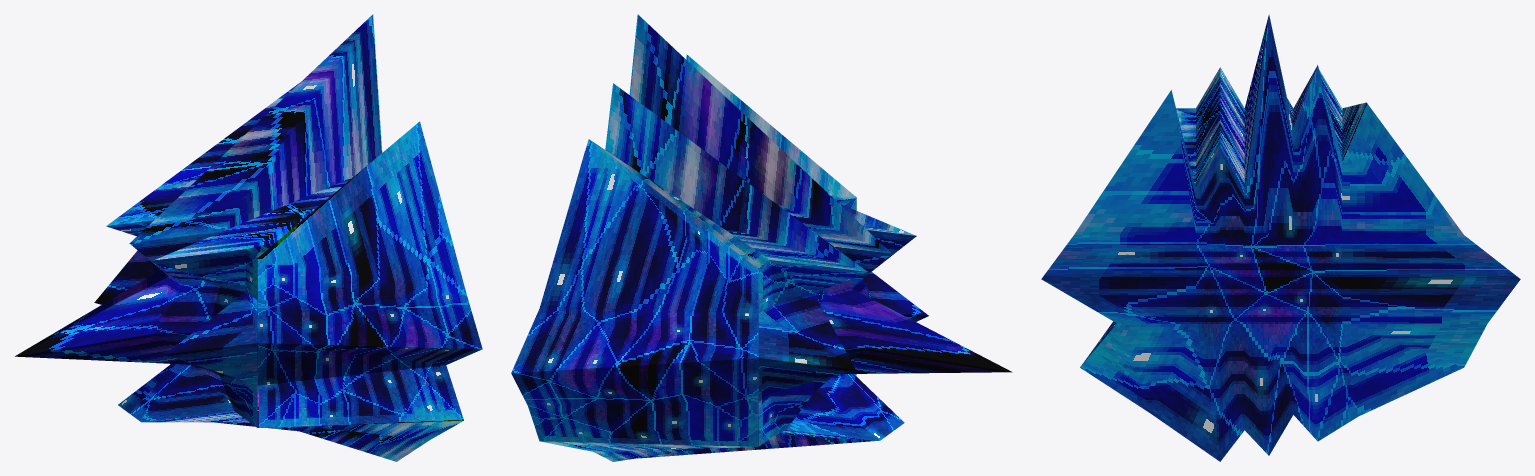
The model's file is EstalactiteGelo.glb.
3 renders of one model, left to right at view 1: azimuth 30°, elevation 25°; view 2: azimuth 150°, elevation 25°; view 3: azimuth 270°, elevation 25°, orthographic. The views are drawn at different scales.
Visible parts, largest first — view 1: BlocoCristal.005; view 2: BlocoCristal.005; view 3: BlocoCristal.005.
Part boxes in pixels (box(x1,y1,x2,y2)): BlocoCristal.005: box(15, 14, 482, 461); BlocoCristal.005: box(511, 14, 1012, 461); BlocoCristal.005: box(1041, 14, 1520, 461).
Bounding box in the file's own units: 4.42 × 5.07 × 4.92.
Materials: 1 (1 with a texture image).
